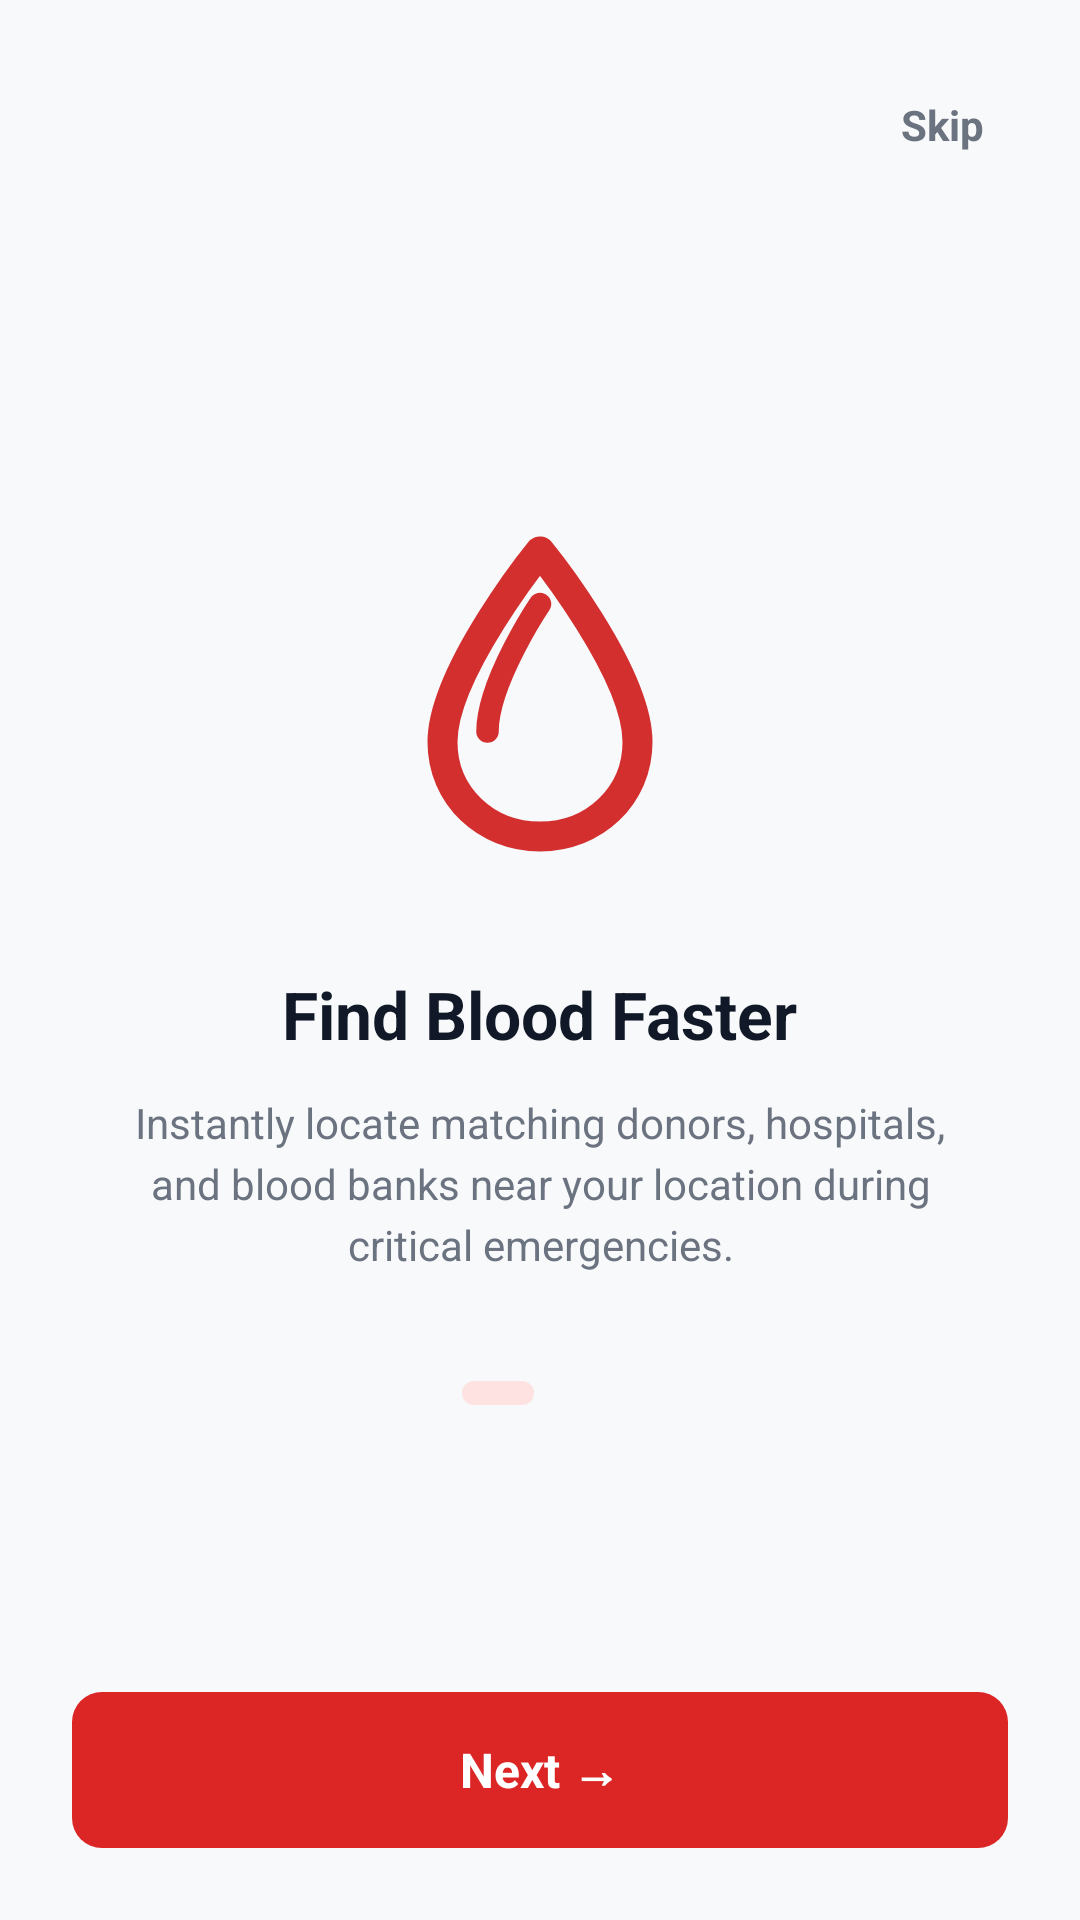

Icons on this 1080 × 1920 Android screen, each with the point to tap as (x,y):
Onboarding Step Illustration: (540,694)
